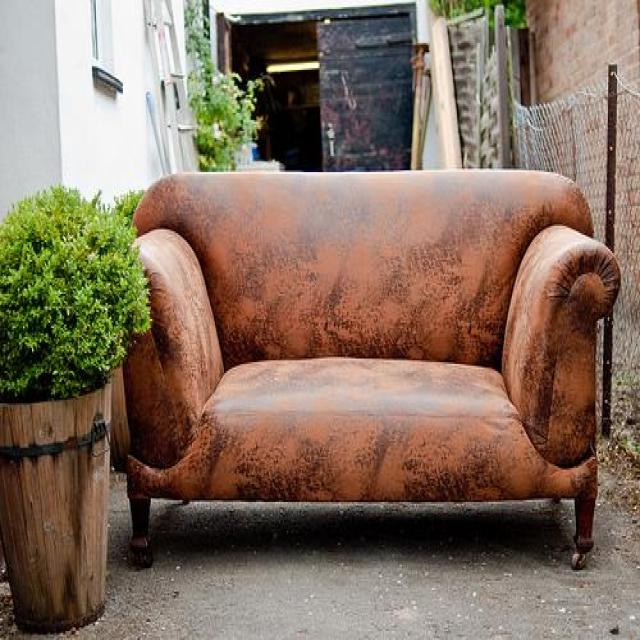sofa: (112, 165, 623, 575)
